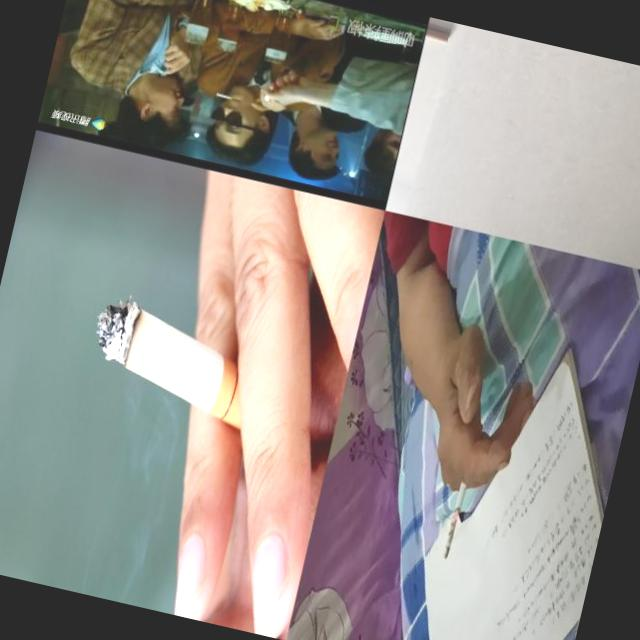cigarette: (73, 288, 322, 466), (441, 421, 484, 564), (424, 22, 451, 45), (214, 90, 233, 100)
